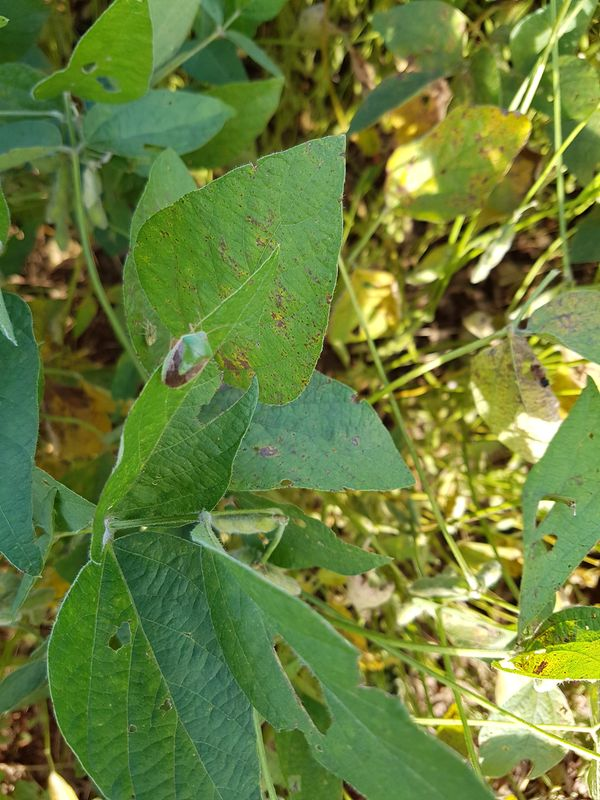Edessa_meditabunda: (157, 313, 225, 397)
